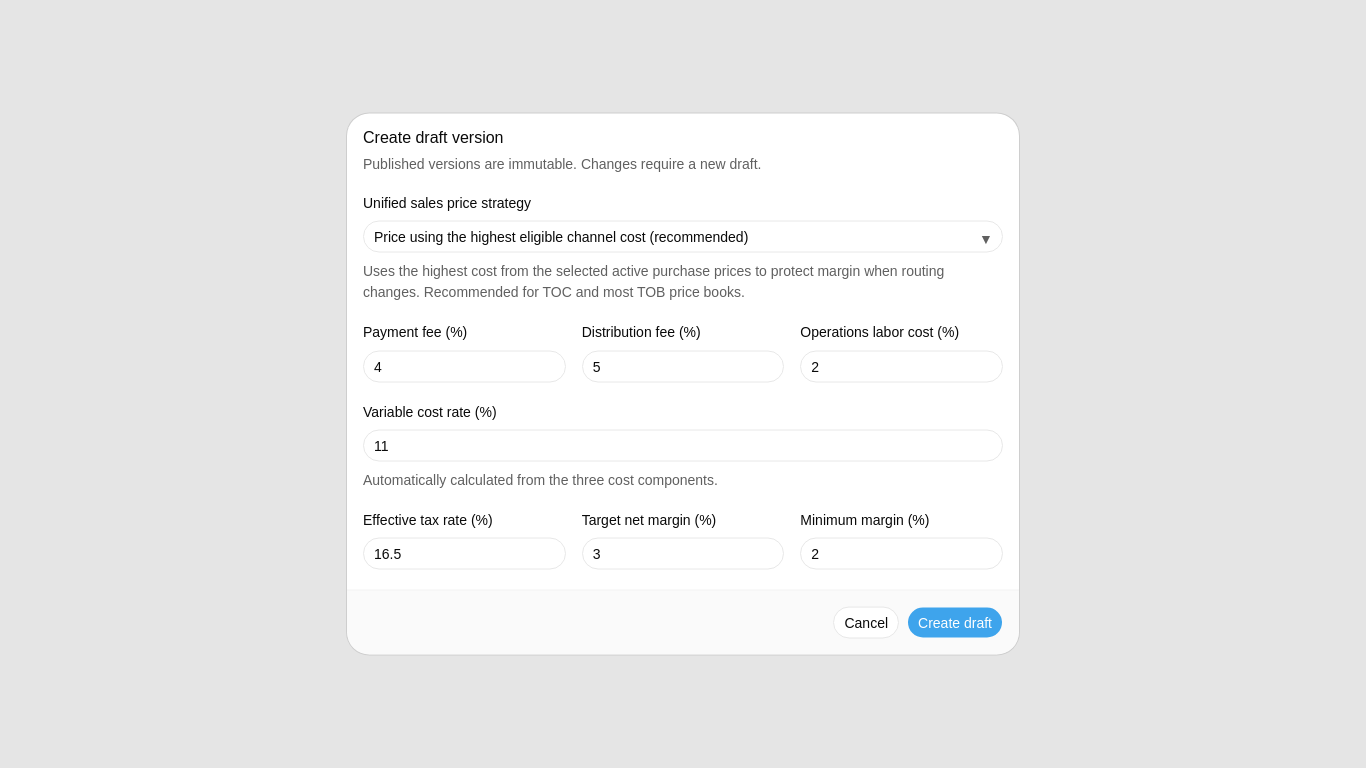
shows readable cost basis labels and explains the selected strategy
Expected: the text "Uses the highest cost from the selected active purchase prices to protect margin when routing changes. Recommended for T" is shown, [363,263,944,300]
What coordinates should you click on to do the following:
click the dropdown named "Unified sales price strategy"
I would click on:
 (683, 237)
Its box is [363,221,1003,253].
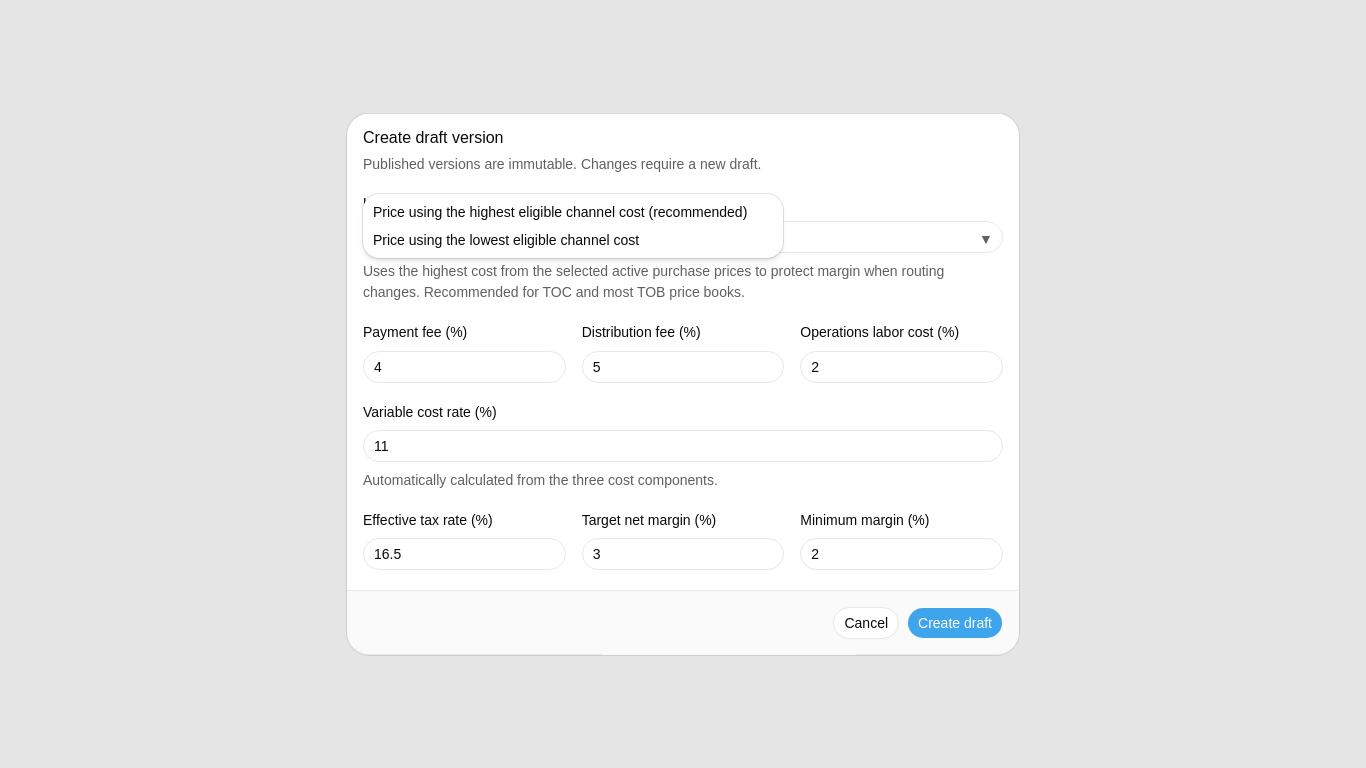
What coordinates should you click on to do the following:
click the option "Price using the lowest eligible channel cost"
I would click on:
 (506, 240)
Its box is [373,232,639,248].
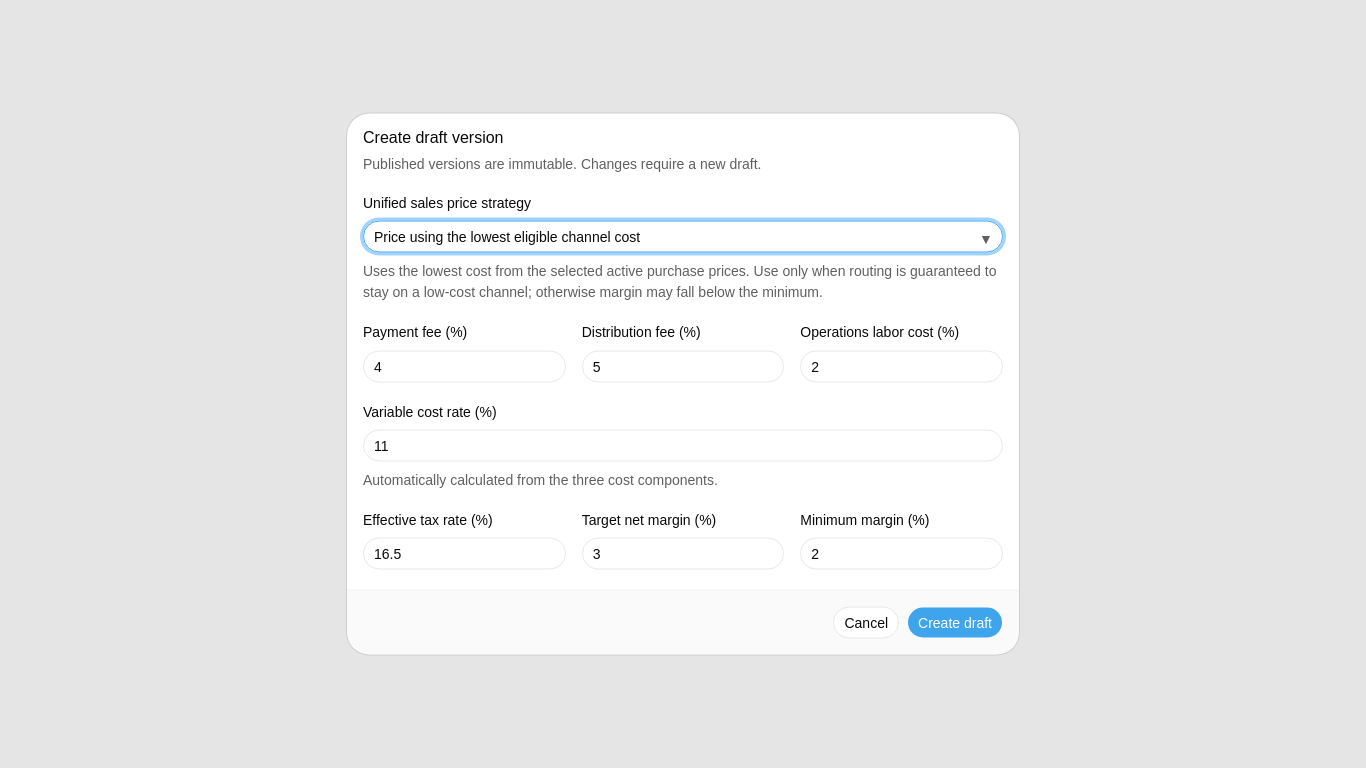
Expected: the dropdown named "Unified sales price strategy" shows "Price using the lowest eligible channel cost", [363,221,1003,253]
Expected: the text "Uses the lowest cost from the selected active purchase prices. Use only when routing is guaranteed to stay on a low-cost" is shown, [363,263,996,300]
